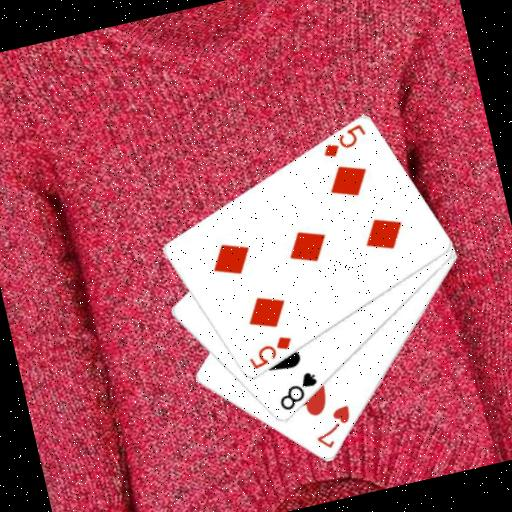5D: (242, 331, 298, 373), (315, 120, 371, 162)
7H: (307, 402, 359, 454)
8S: (272, 367, 325, 415)
